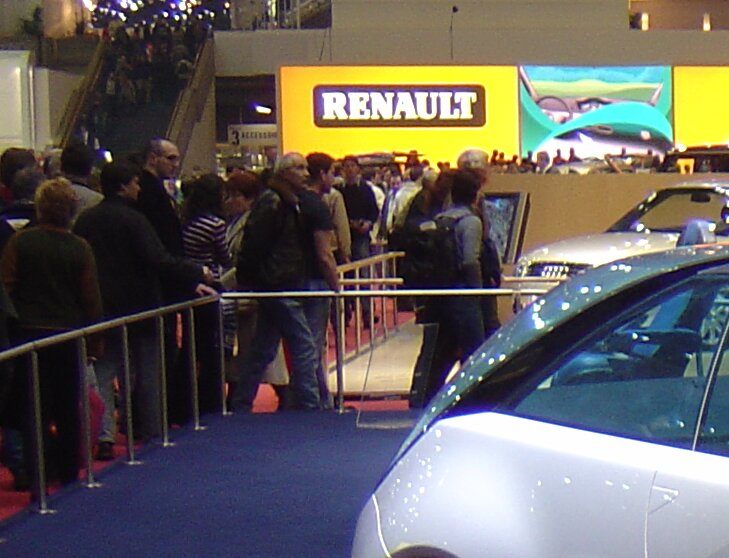person: (3, 177, 111, 478), (227, 148, 332, 420), (411, 173, 499, 379), (90, 162, 168, 313), (137, 133, 202, 247)
